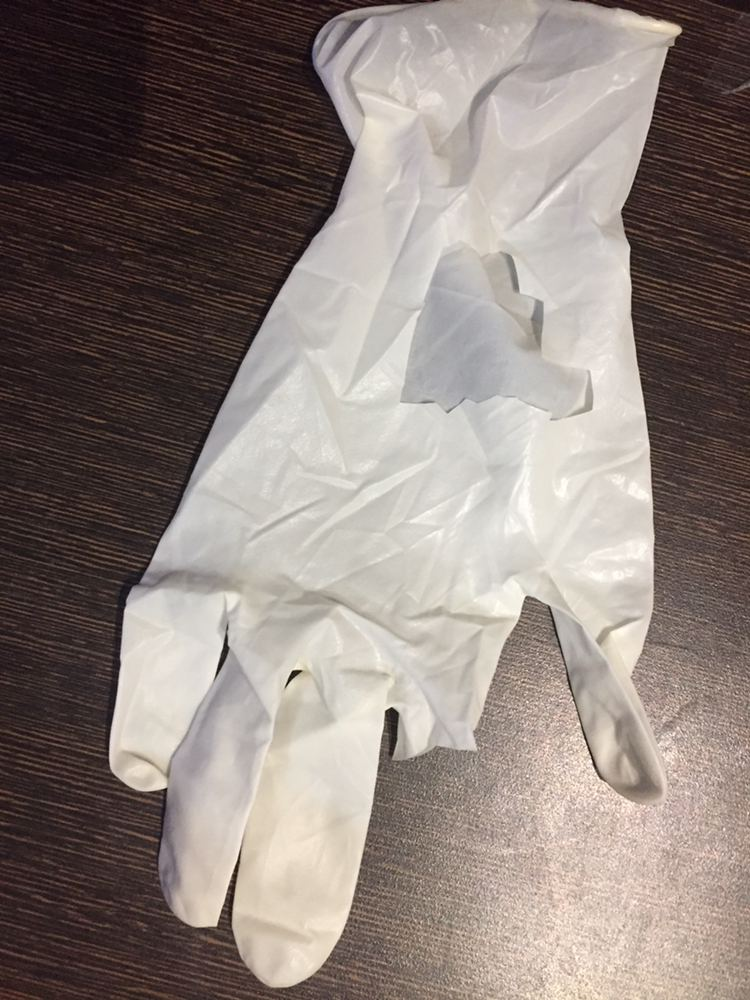defected: (100, 36, 742, 981)
